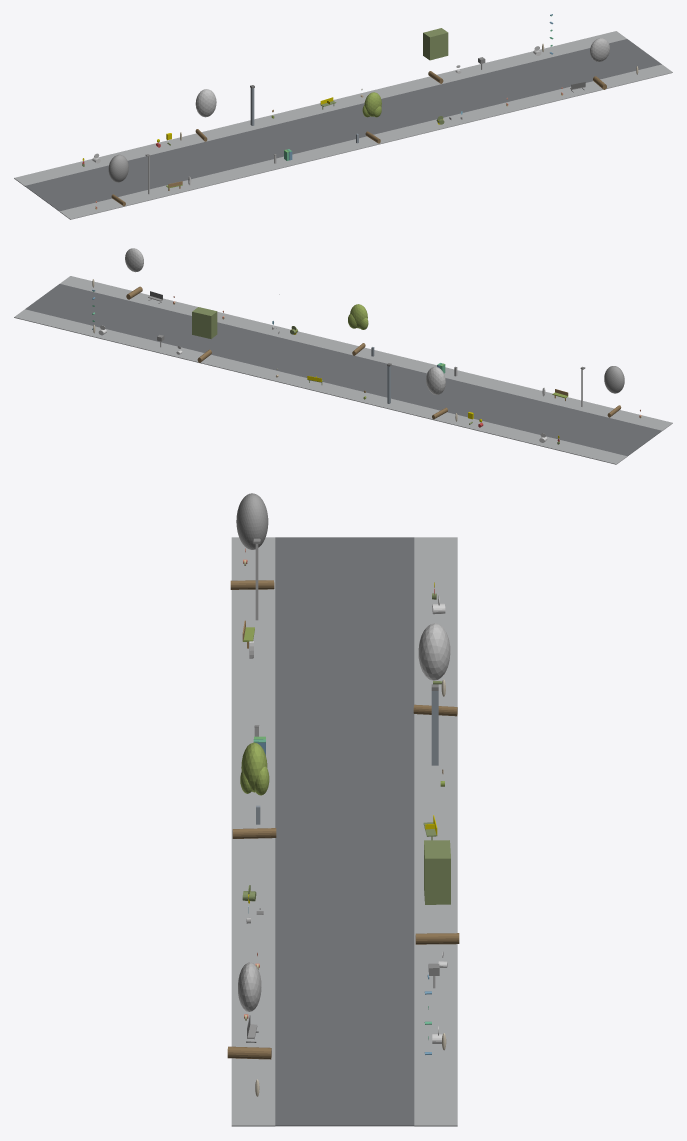
3 views of the same model, one above another, from view 1: azimuth 30°, elevation 25°; view 2: azimuth 150°, elevation 25°; view 3: azimuth 270°, elevation 25° (orthographic). The views are drawn at different scales.
Visible parts, largest first — view 1: road_slab, sidewalk_left, sidewalk_right, inst_0015, inst_0013, inst_0012, inst_0014, inst_0016; view 2: road_slab, sidewalk_right, sidewalk_left, inst_0015, inst_0012, inst_0013, inst_0014, inst_0016; view 3: road_slab, sidewalk_left, sidewalk_right, inst_0015, inst_0013, inst_0012, inst_0014, inst_0016.
Part boxes in pixels (box(x1,y1,x2,y2)): road_slab: box(25, 39, 661, 211); sidewalk_left: box(59, 64, 672, 219); sidewalk_right: box(14, 31, 626, 186); inst_0015: box(423, 28, 448, 83); inst_0013: box(195, 89, 216, 141); inst_0012: box(108, 154, 128, 206); inst_0014: box(362, 92, 381, 143); inst_0016: box(590, 38, 609, 89); road_slab: box(25, 284, 661, 456); sidewalk_right: box(14, 309, 627, 464); sidewalk_left: box(60, 276, 672, 430); inst_0015: box(192, 307, 217, 362); inst_0012: box(604, 366, 624, 417); inst_0013: box(426, 366, 447, 419); inst_0014: box(348, 304, 368, 355); inst_0016: box(125, 248, 143, 299); road_slab: box(275, 537, 414, 1126); sidewalk_left: box(231, 537, 275, 1126); sidewalk_right: box(414, 537, 457, 1126); inst_0015: box(415, 840, 459, 944); inst_0013: box(413, 623, 457, 716); inst_0012: box(230, 493, 274, 589); inst_0014: box(232, 742, 276, 838); inst_0016: box(227, 962, 271, 1059).
Size of the model in its own units: 80 by 6.08 by 13.32.
